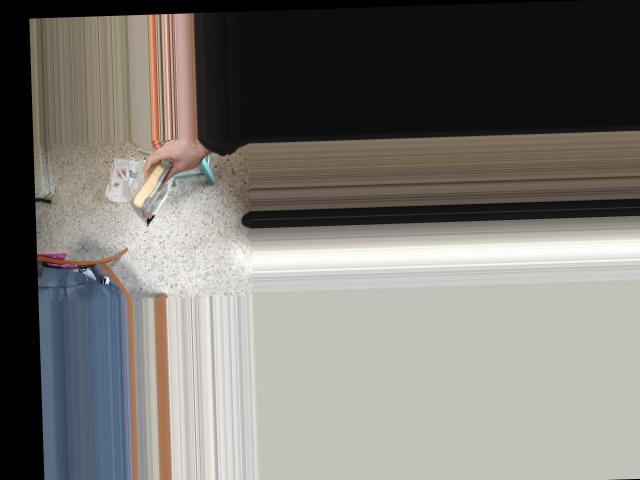cheese: (126, 142, 181, 227)
